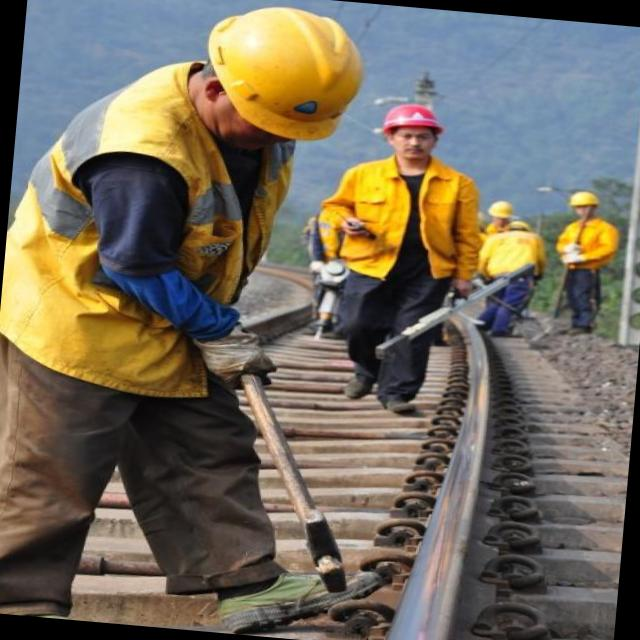helmet: (178, 0, 377, 149), (372, 90, 452, 169), (567, 182, 604, 226), (485, 196, 516, 232)
